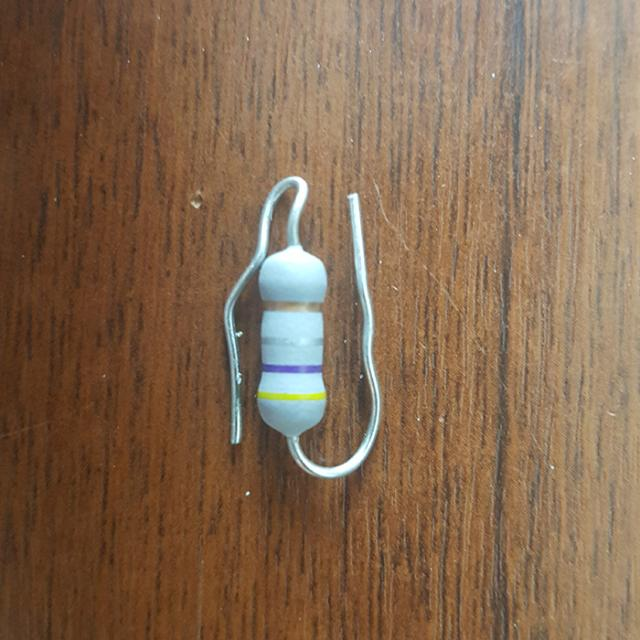Resistor Carbon-Film: (256, 251, 328, 435)
